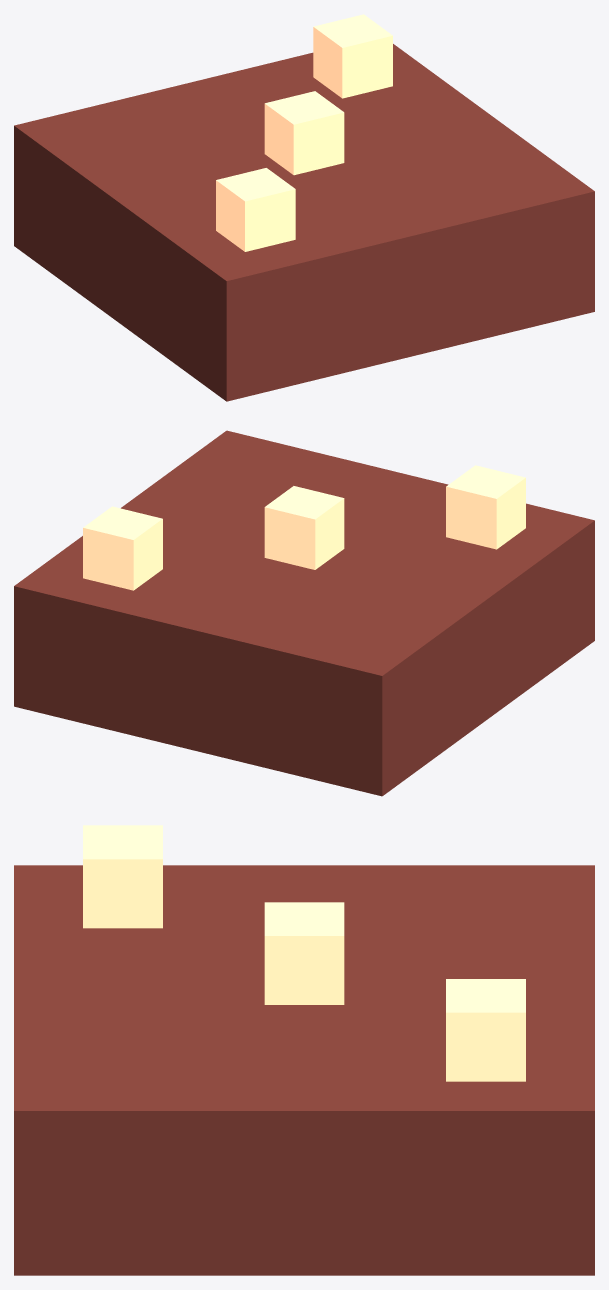
The model's file is static.glb.
The picture shows the model from 3 angles, top to bottom: view 1: azimuth 30°, elevation 25°; view 2: azimuth 150°, elevation 25°; view 3: azimuth 270°, elevation 25°; orthographic projection. The views are drawn at different scales.
Parts seen in each view (by area): view 1: Cube, Cube.002, Cube.003, Cube.001; view 2: Cube, Cube.002, Cube.003, Cube.001; view 3: Cube, Cube.002, Cube.001, Cube.003.
Boxes of the visible parts, bbox=[...] form: Cube: bbox=[14, 44, 594, 401]; Cube.002: bbox=[264, 91, 344, 175]; Cube.003: bbox=[313, 14, 392, 98]; Cube.001: bbox=[216, 168, 295, 251]; Cube: bbox=[14, 430, 594, 796]; Cube.002: bbox=[264, 486, 344, 569]; Cube.003: bbox=[83, 506, 162, 590]; Cube.001: bbox=[446, 465, 525, 549]; Cube: bbox=[14, 865, 594, 1275]; Cube.002: bbox=[264, 902, 344, 1004]; Cube.001: bbox=[83, 825, 162, 928]; Cube.003: bbox=[446, 979, 525, 1081].
Size of the model in its own units: 1.6 by 0.71 by 1.6.
